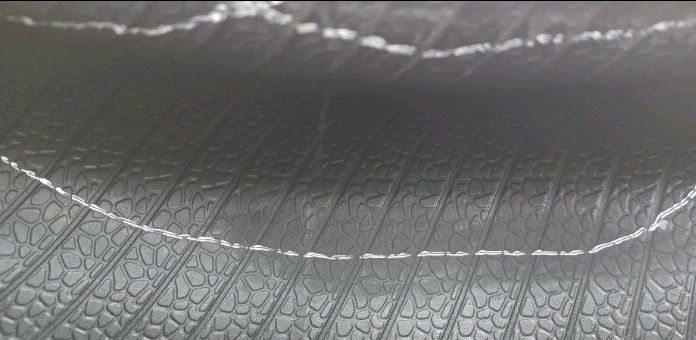CBU: (233, 221, 462, 256)
